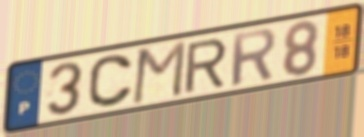3: (44, 60, 85, 118)
8: (281, 18, 321, 79)
C: (86, 53, 136, 110)
M: (129, 38, 189, 107)
R: (230, 25, 279, 89), (182, 35, 230, 96)
